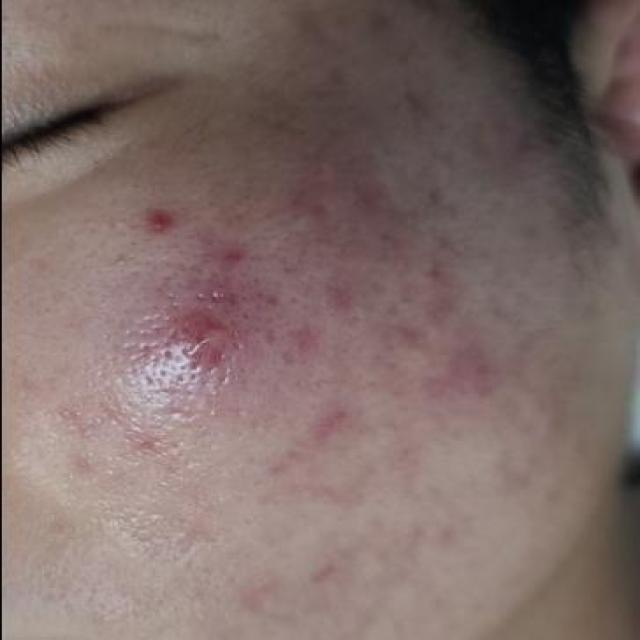Pimples: (105, 311, 285, 421), (168, 284, 268, 312), (140, 186, 188, 243)
